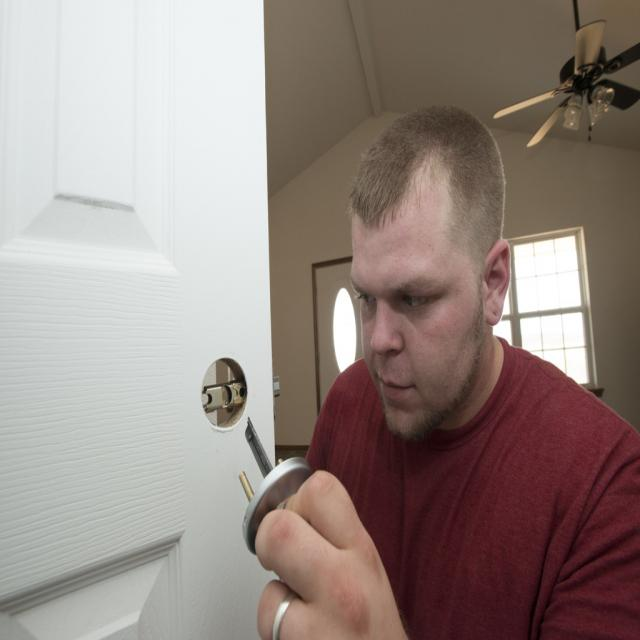Bulb: (493, 0, 639, 149)
